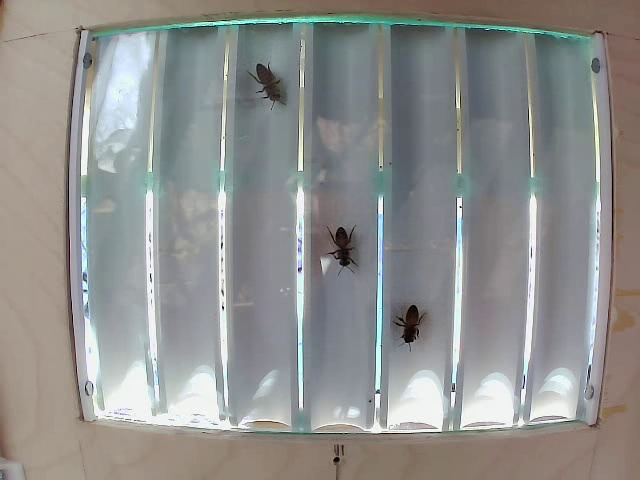bee: (318, 229, 368, 275), (251, 50, 293, 100), (388, 297, 434, 337)
